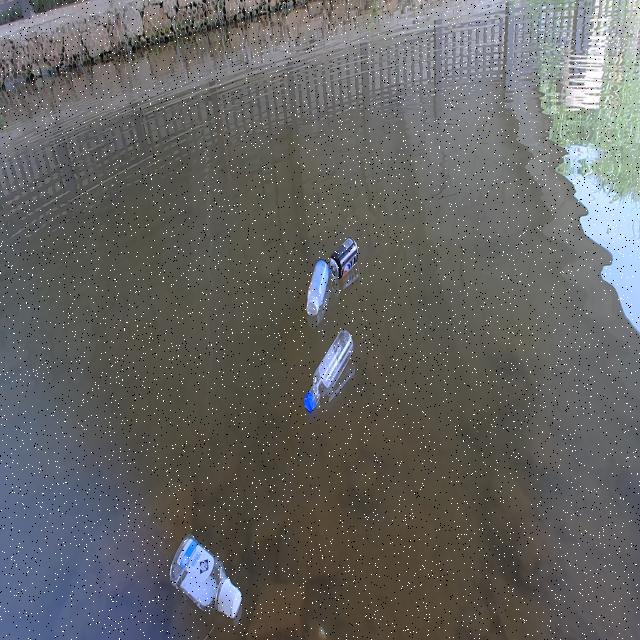Bottle: (168, 531, 244, 618), (304, 328, 353, 416), (304, 258, 330, 318)
Can: (329, 223, 359, 278)
